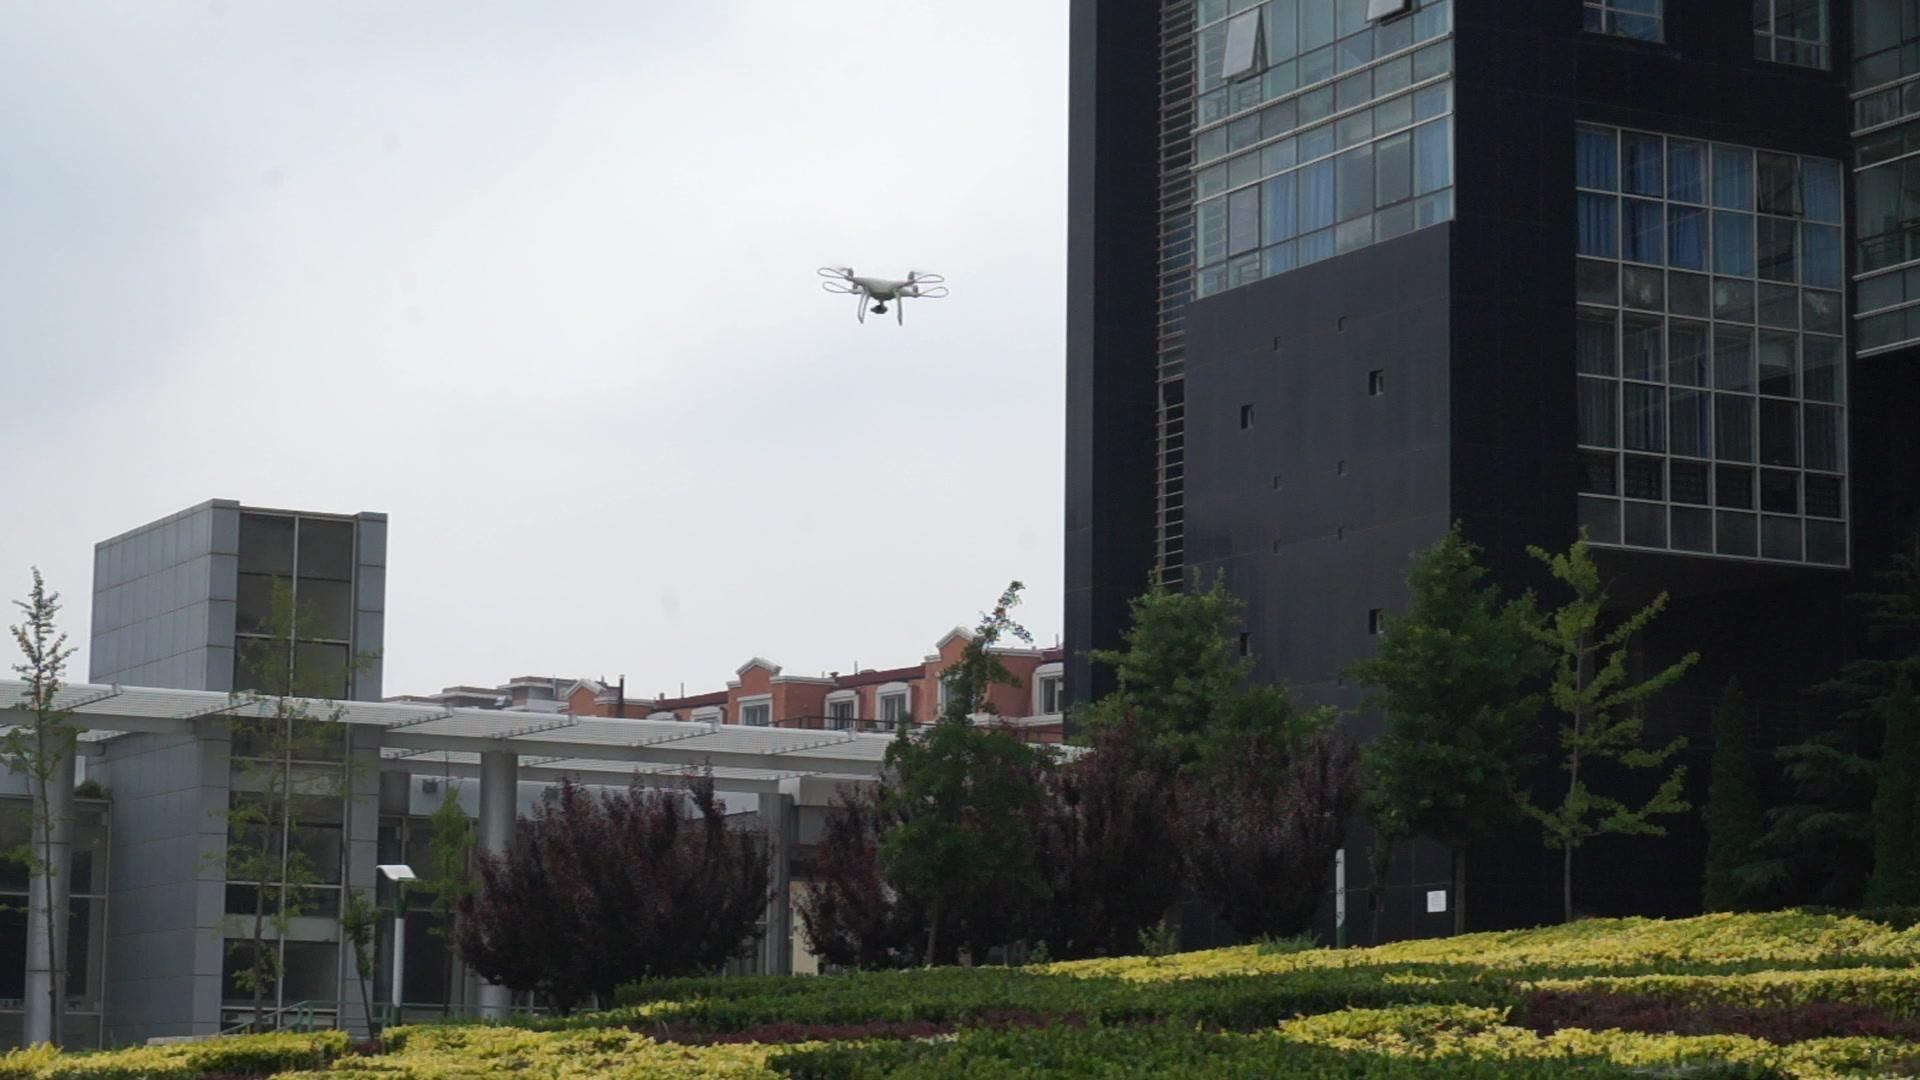UAV: (818, 268, 949, 326)
